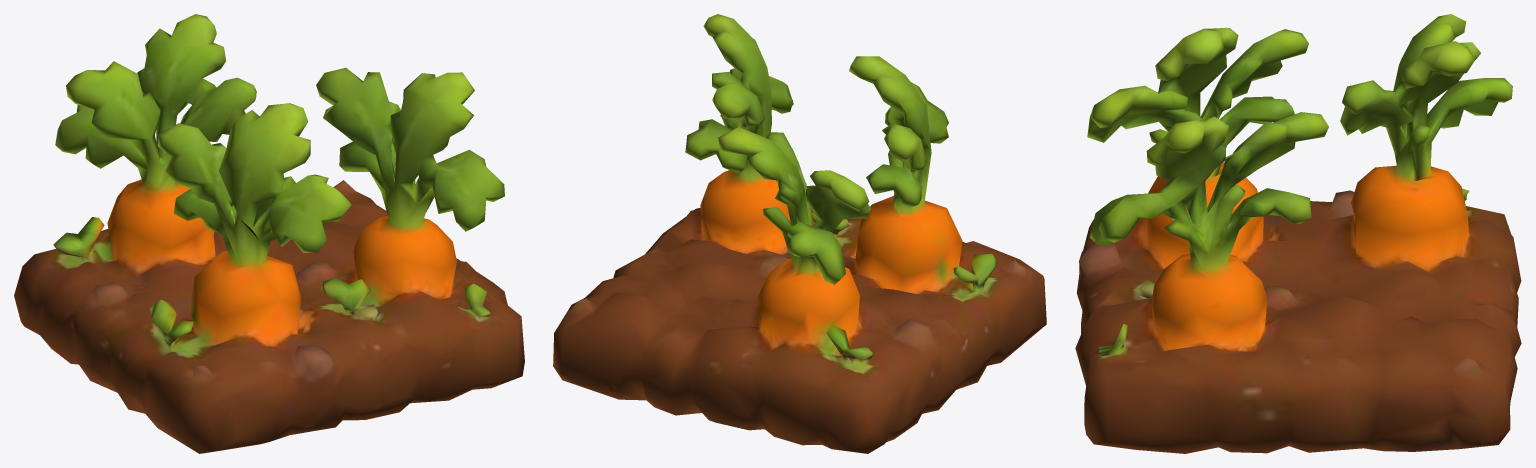
3 renders of one model, left to right at view 1: azimuth 30°, elevation 25°; view 2: azimuth 150°, elevation 25°; view 3: azimuth 270°, elevation 25°, orthographic. The views are drawn at different scales.
Parts seen in each view (by area): view 1: carrot-ready; view 2: carrot-ready; view 3: carrot-ready.
Part boxes in pixels (x1,y1,x2,y2): carrot-ready: (14, 14, 524, 453); carrot-ready: (553, 14, 1046, 453); carrot-ready: (1075, 14, 1521, 453).
Bounding box in the file's own units: 0.7998 × 0.6384 × 0.8038.
Materials: 1 (1 with a texture image).
